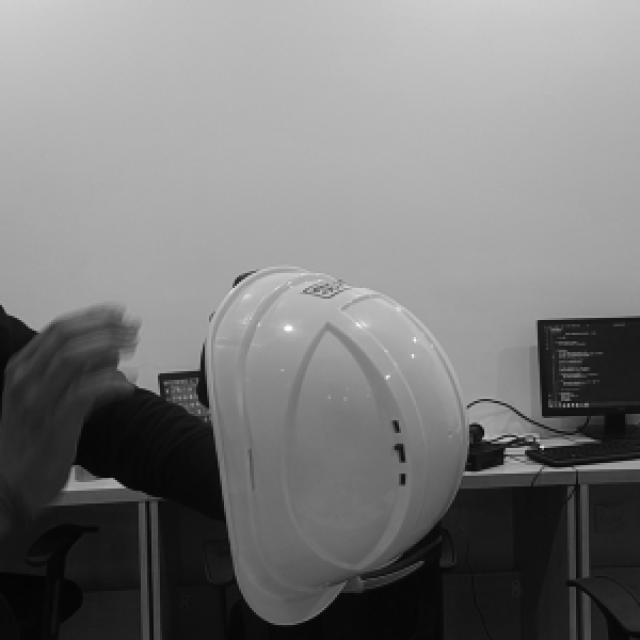safety_helmet: (205, 267, 469, 625)
